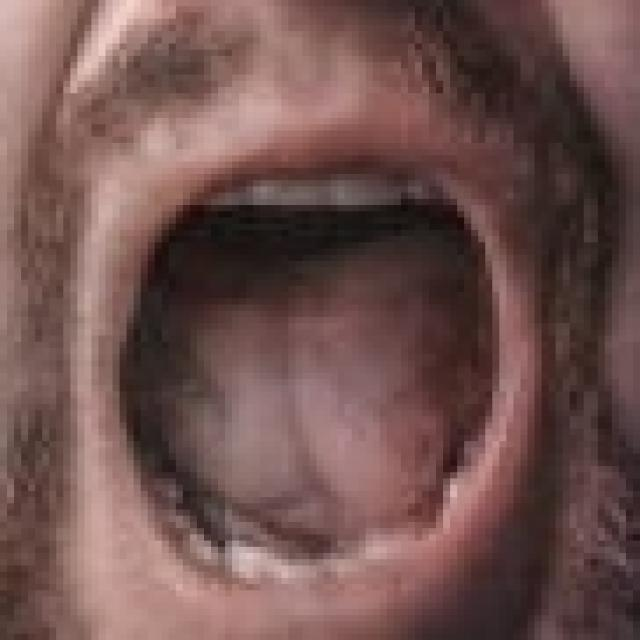open-mouth: (91, 130, 548, 596)
